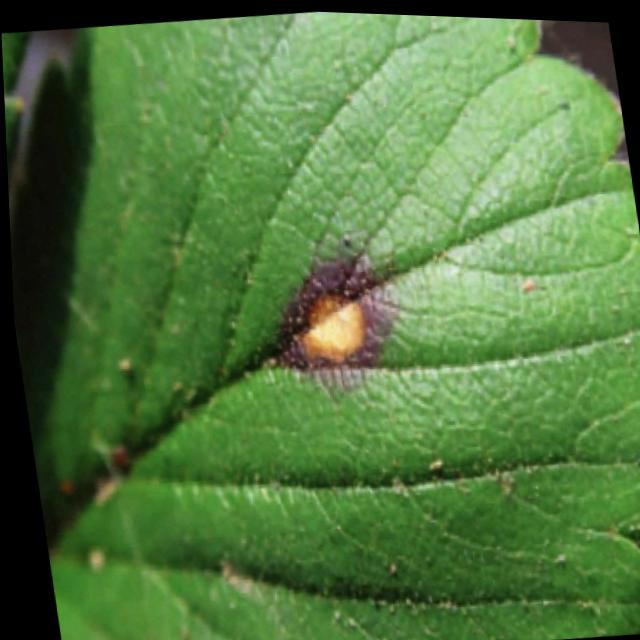Leaf Spot: (7, 9, 640, 640)
